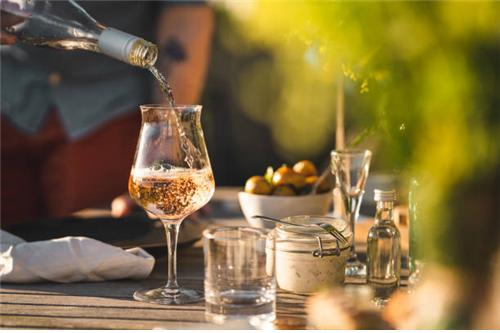alcohol: (129, 103, 213, 307), (0, 0, 159, 69), (204, 227, 277, 326), (330, 149, 374, 276)
